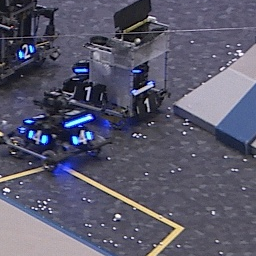Blue: (27, 129, 49, 147), (71, 130, 94, 145), (16, 44, 35, 59)
Dead: (72, 81, 106, 106), (134, 94, 160, 115)
Robot: (46, 1, 171, 125), (2, 90, 112, 167), (1, 1, 59, 84)
